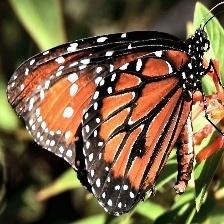butterfly: (8, 30, 210, 214)
